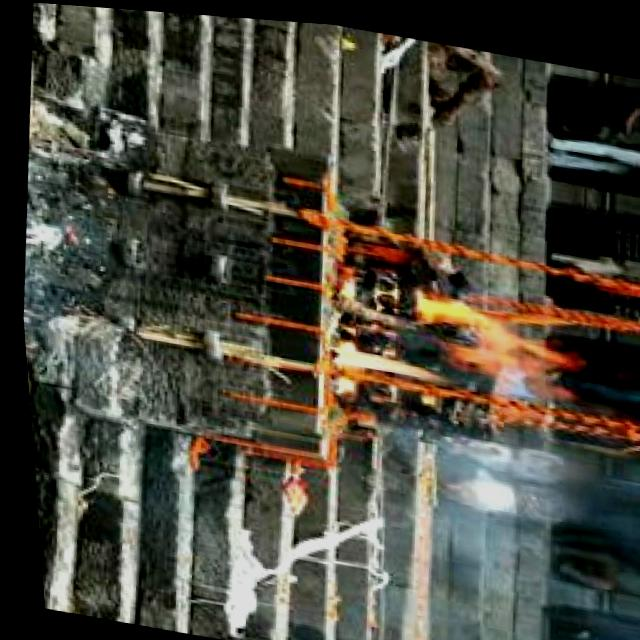helmet: (317, 274, 581, 416)
